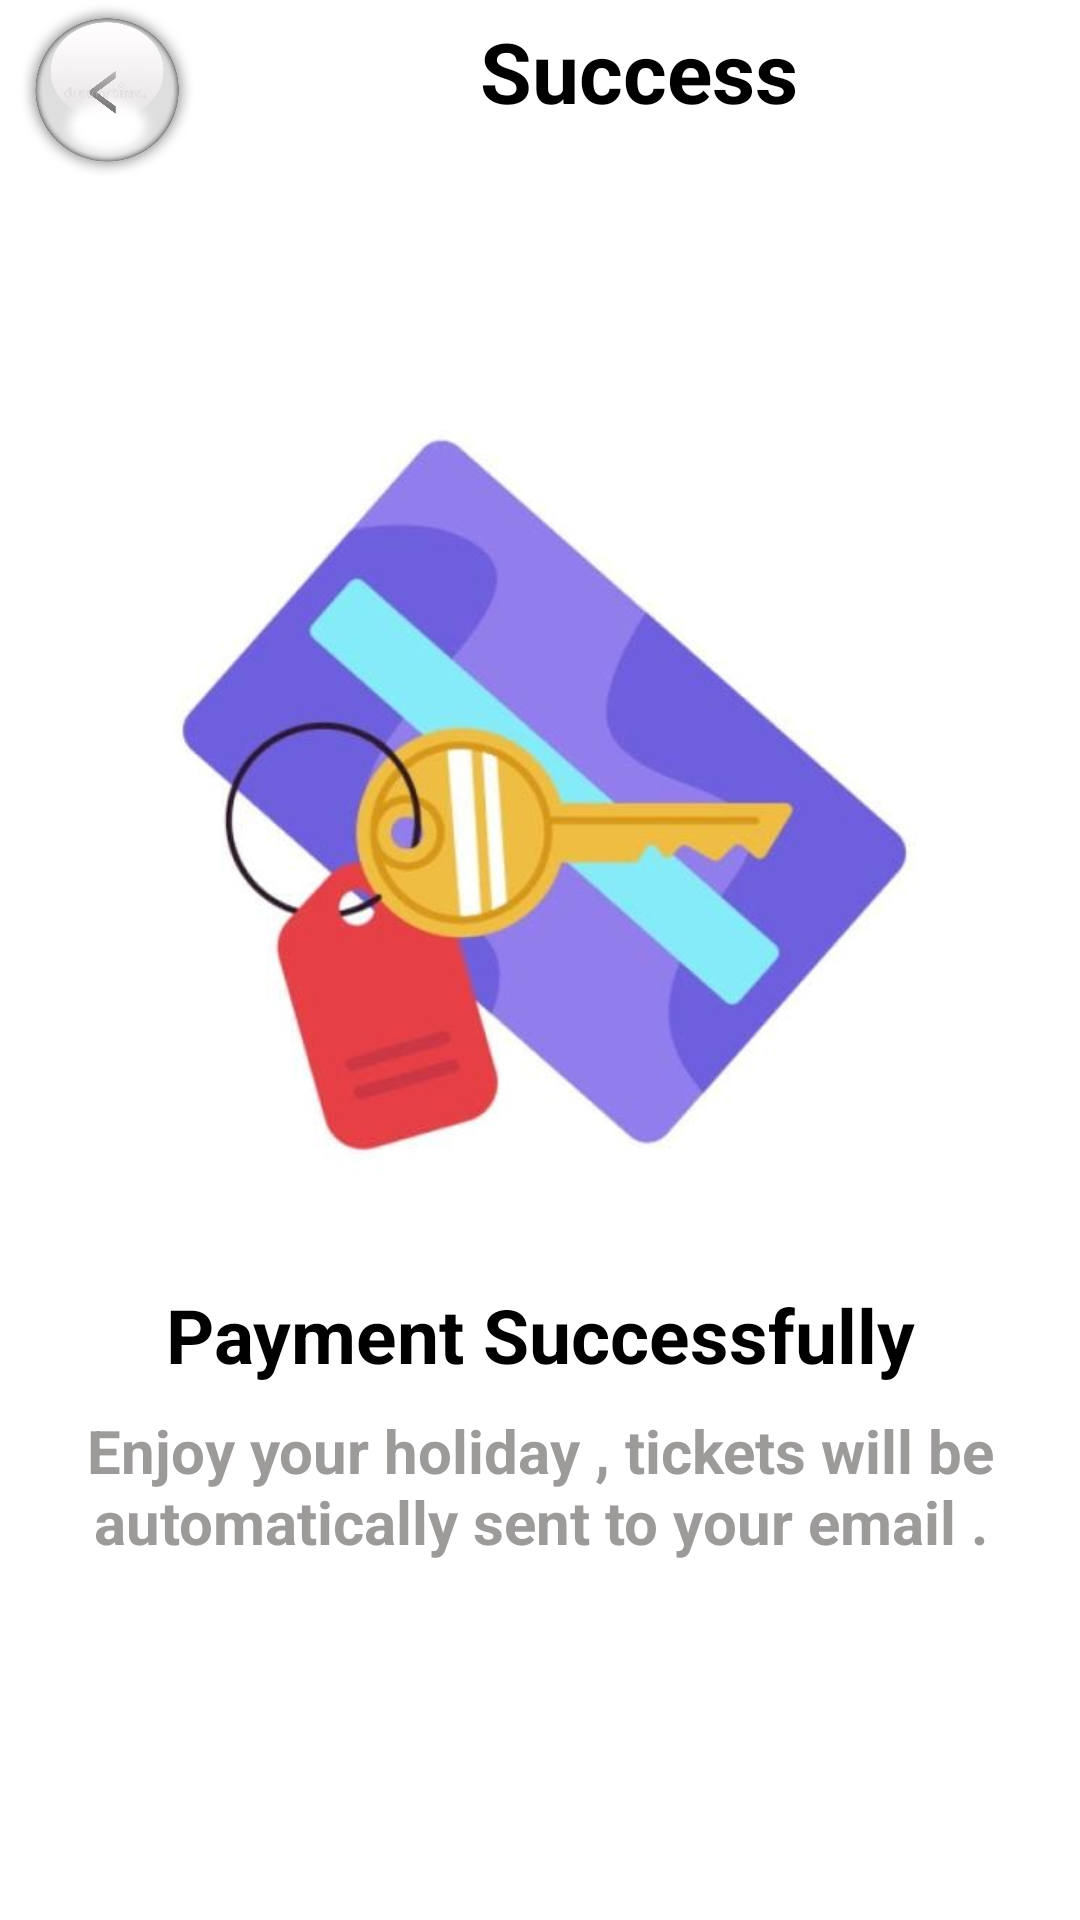

Icon bounding boxes for this 1080w x 1920h phone screenshot, format (x1, y1, x2, y2):
back: (28, 11, 186, 168)
